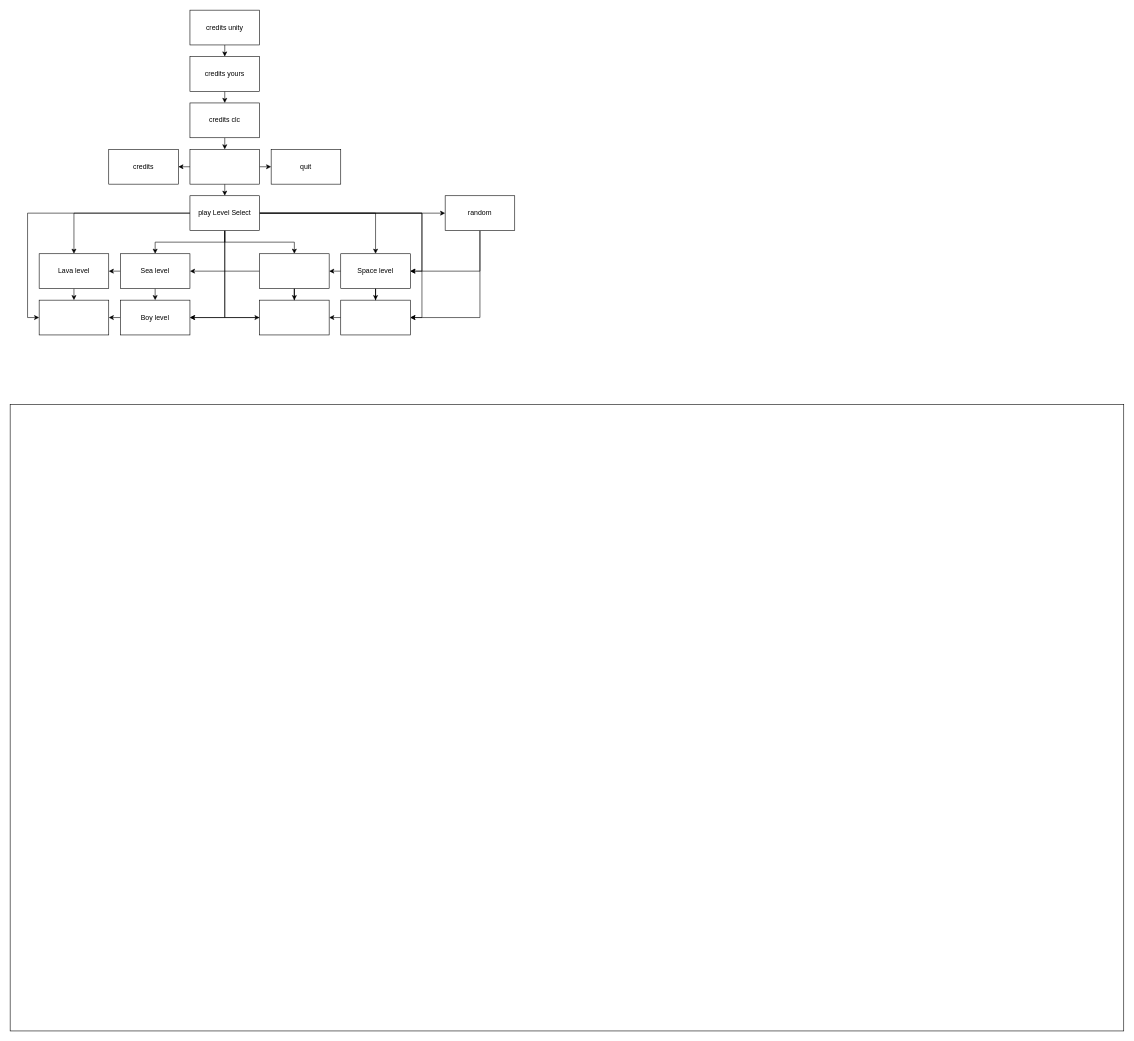
This 1134x1041 diagram has some shape labels left out. Here are the shapes that lost their labels. From the top down, the centre of each, then its label:
point (224, 166): Title Scene
point (294, 271): Grass level
point (74, 317): White Void level
point (294, 317): Girl level
point (375, 317): Sky level
